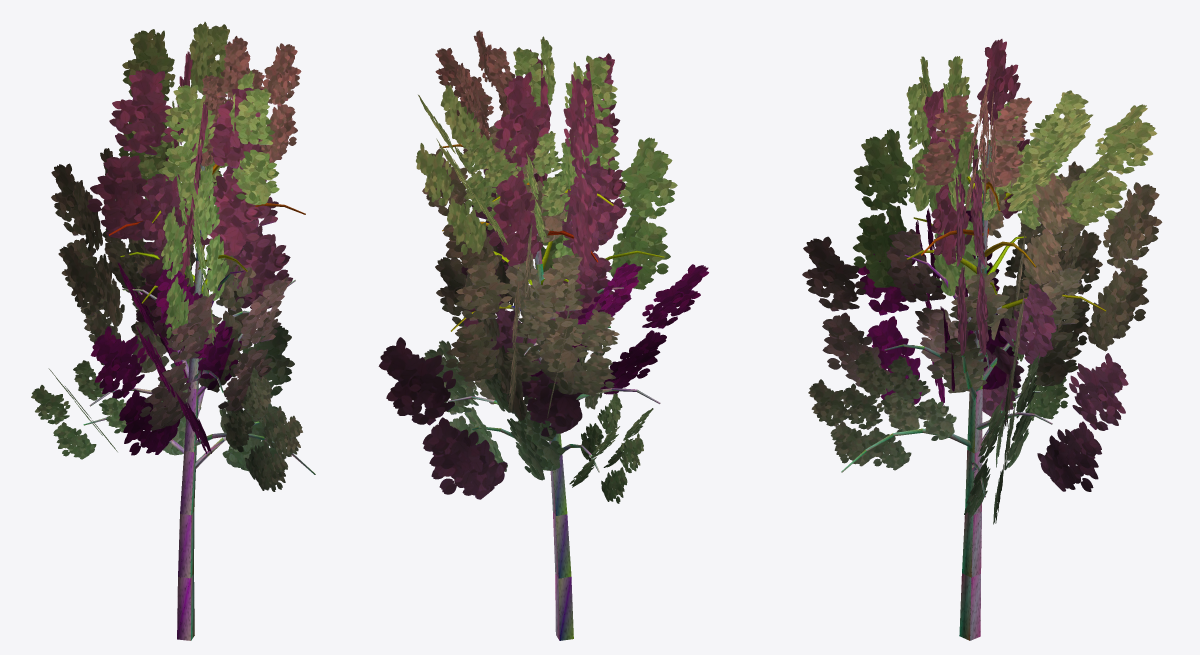
Rendered from nat_birch_c_LOD2.glb.
The picture shows the model from 3 angles, left to right: view 1: azimuth 30°, elevation 25°; view 2: azimuth 150°, elevation 25°; view 3: azimuth 270°, elevation 25°; orthographic projection. The views are drawn at different scales.
Visible parts, largest first — view 1: nat_birch_c_LOD2; view 2: nat_birch_c_LOD2; view 3: nat_birch_c_LOD2.
Part boxes in pixels (x1,y1,x2,y2): nat_birch_c_LOD2: [31, 22, 315, 640]; nat_birch_c_LOD2: [378, 30, 708, 640]; nat_birch_c_LOD2: [802, 39, 1162, 640].
Size of the model in its own units: 5.54 by 10.64 by 6.61.
2 materials, 2 textured.
